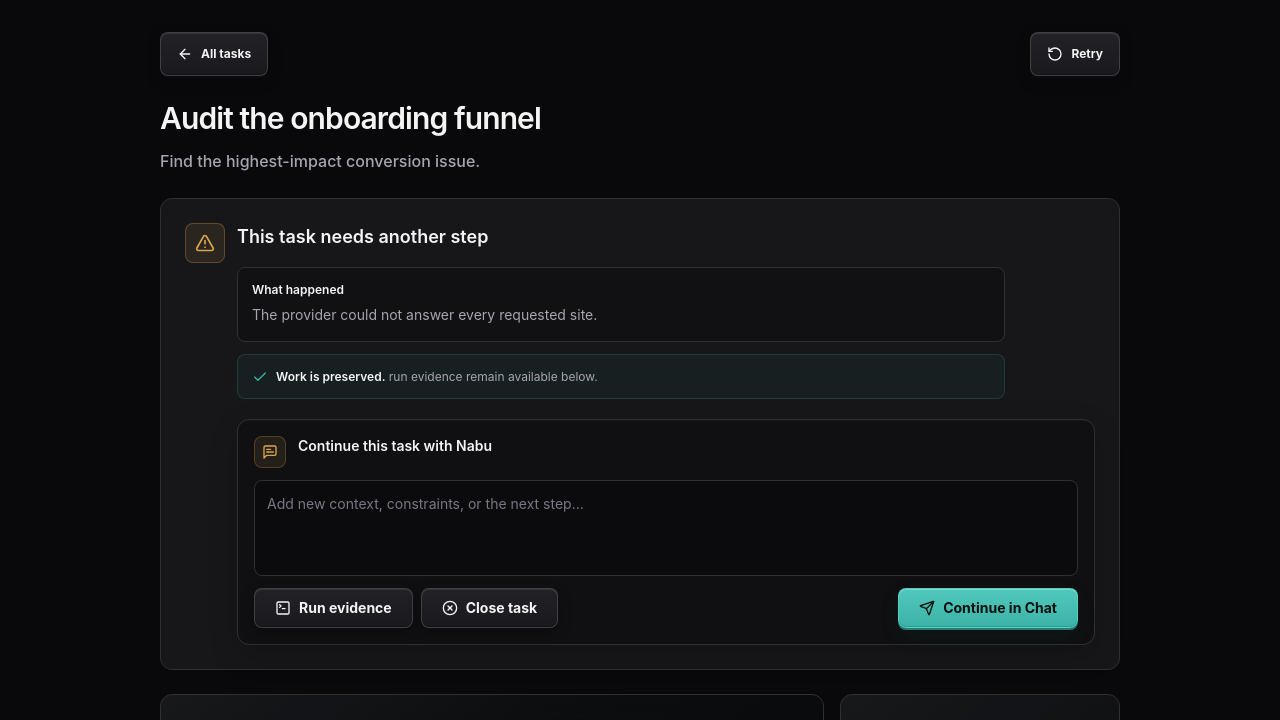
Test case: TaskDetailPage recovery › closes a failed task while preserving it outside Needs You
Click the button "Close task" at (489, 608), box x1=421 y1=588 x2=558 y2=628
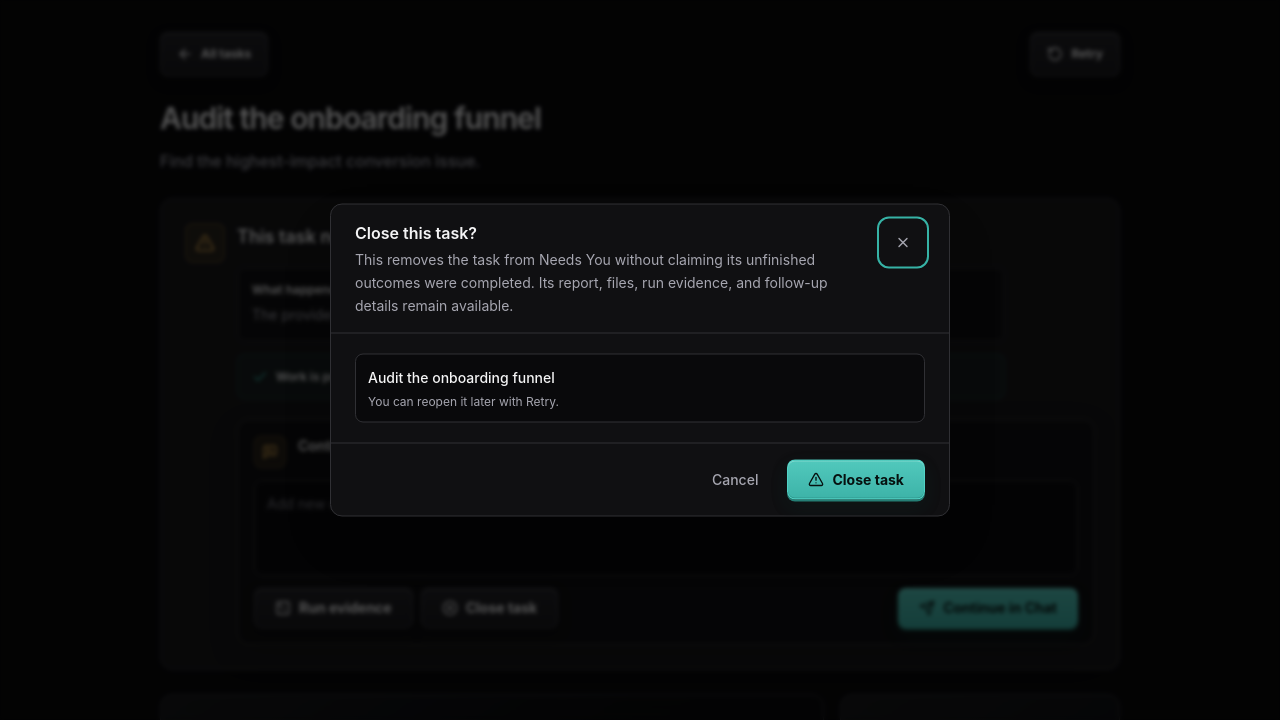
Now the heading "Close this task?" is shown, box x1=355 y1=222 x2=477 y2=242
Now the text "report, files, run evidence, and follow-up details remain available" is shown, box x1=355 y1=250 x2=828 y2=313
Click the button "Close task" at (856, 480), box x1=788 y1=460 x2=925 y2=500
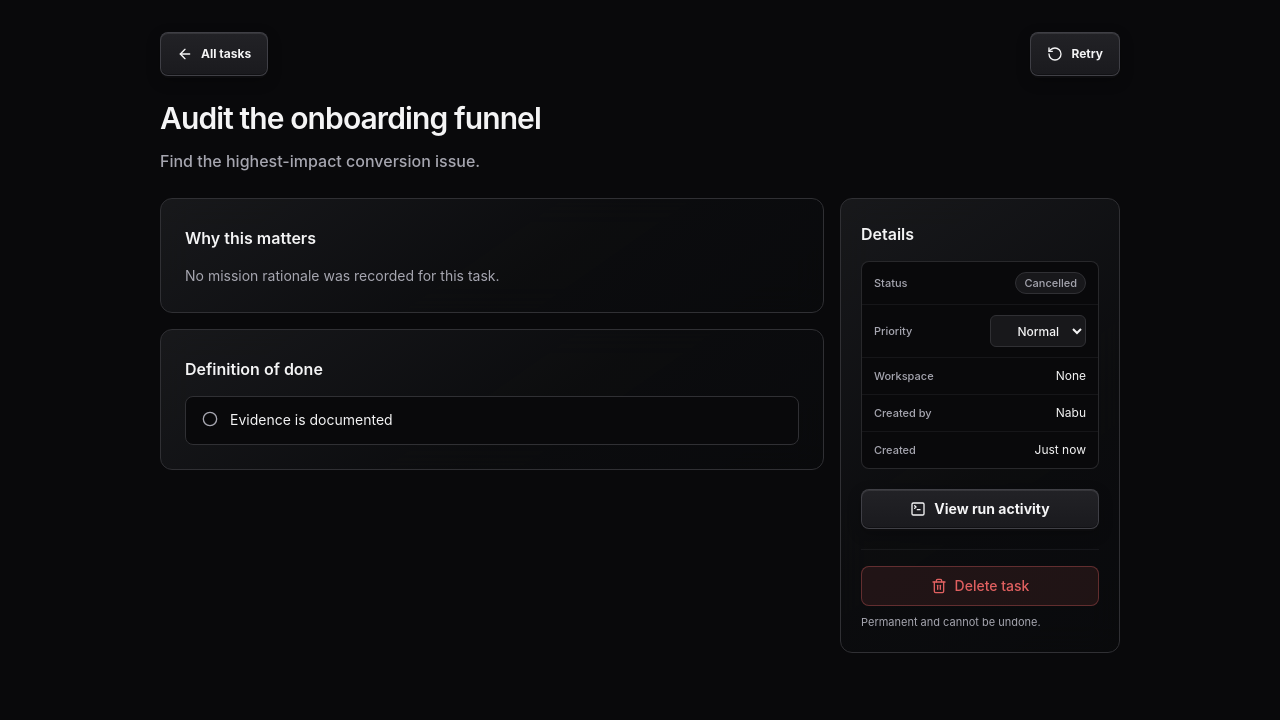
Expected: the button "Retry" is shown, x1=1030 y1=32 x2=1120 y2=76
Now the text "Cancelled" is shown, box x1=1016 y1=272 x2=1086 y2=294
Now the heading "Continue this task with Nabu" is gone
